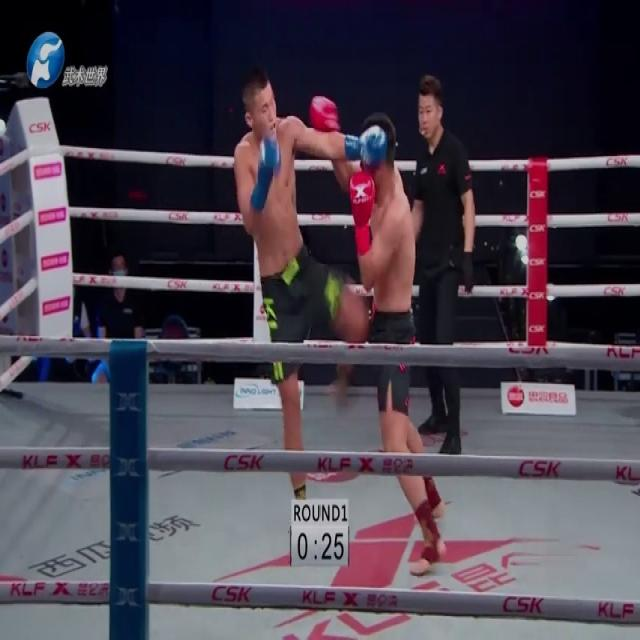fight: (231, 64, 448, 578)
non-fight: (407, 71, 483, 461)
